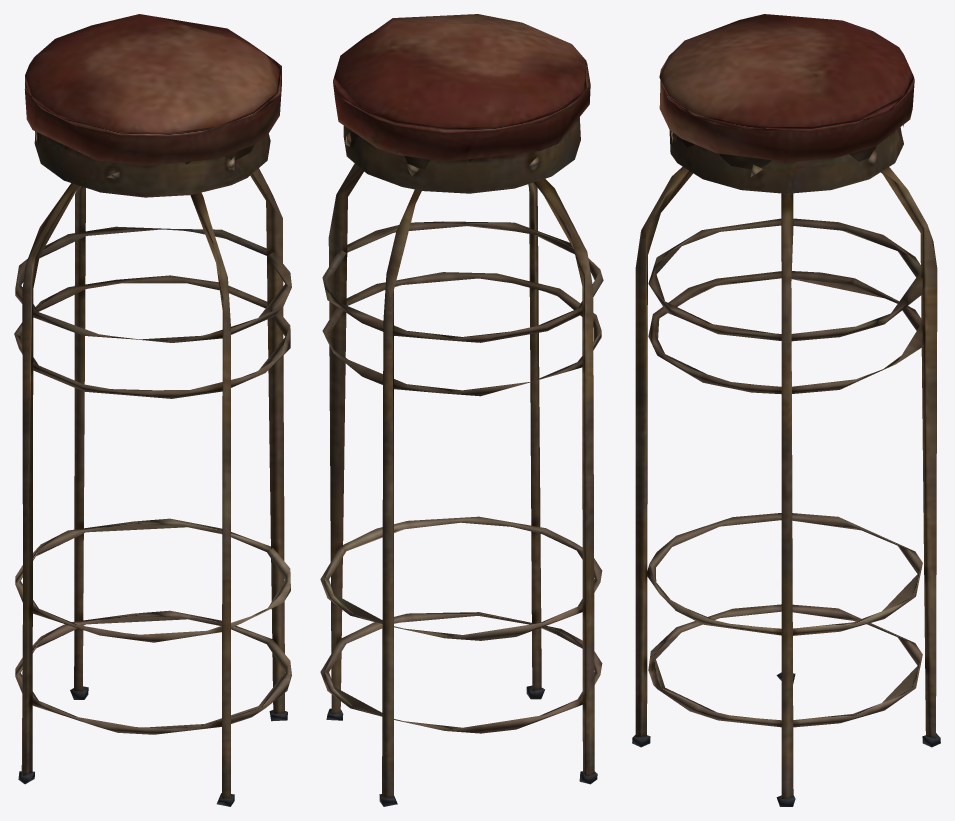
File: metal_stool_01.glb
The picture shows the model from 3 angles, left to right: view 1: azimuth 30°, elevation 25°; view 2: azimuth 150°, elevation 25°; view 3: azimuth 270°, elevation 25°; orthographic projection.
Parts seen in each view (by area): view 1: metal_stool_01; view 2: metal_stool_01; view 3: metal_stool_01.
Part boxes in pixels (<box>): metal_stool_01: <box>14,14,291,806</box>; metal_stool_01: <box>320,14,603,806</box>; metal_stool_01: <box>632,14,940,806</box>.
Size of the model in its own units: 0.3505 by 0.8796 by 0.3538.
1 material, 1 textured.
